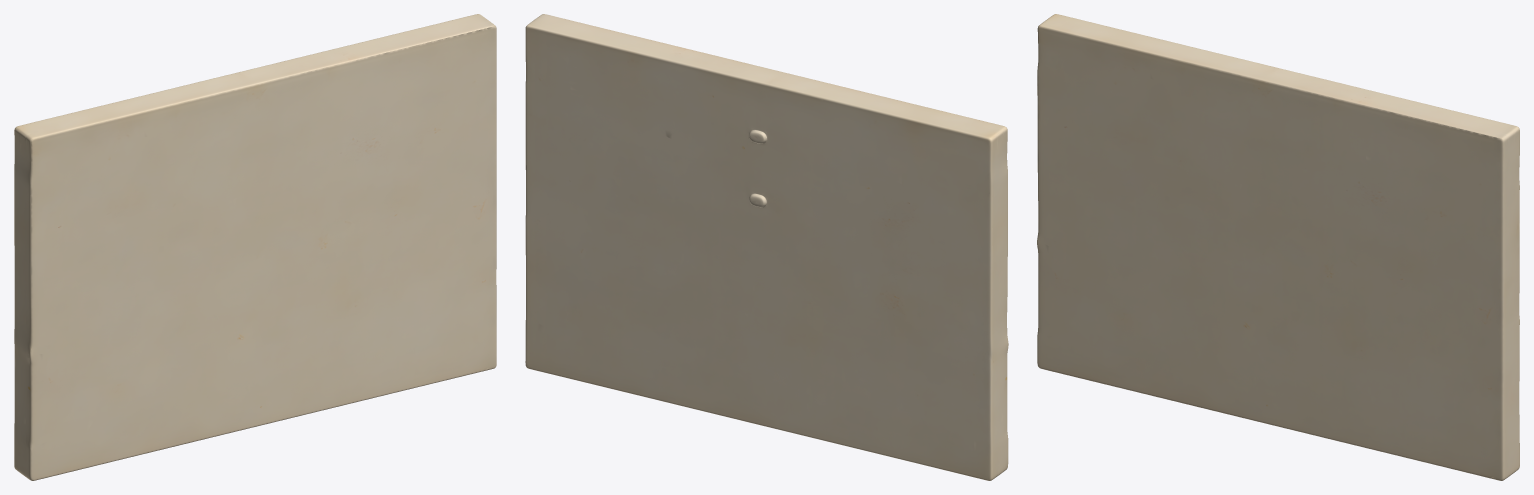
The picture shows the model from 3 angles, left to right: view 1: azimuth 30°, elevation 25°; view 2: azimuth 150°, elevation 25°; view 3: azimuth 330°, elevation 25°; orthographic projection.
Visible parts, largest first — view 1: Mesh_0; view 2: Mesh_0; view 3: Mesh_0.
Boxes of the visible parts, x1=… form: Mesh_0: x1=14, y1=14, x2=496, y2=480; Mesh_0: x1=525, y1=14, x2=1008, y2=480; Mesh_0: x1=1037, y1=14, x2=1519, y2=480.
Bounding box in the file's own units: 98.51 × 69.26 × 7.01.
Materials: 1 (1 with a texture image).
